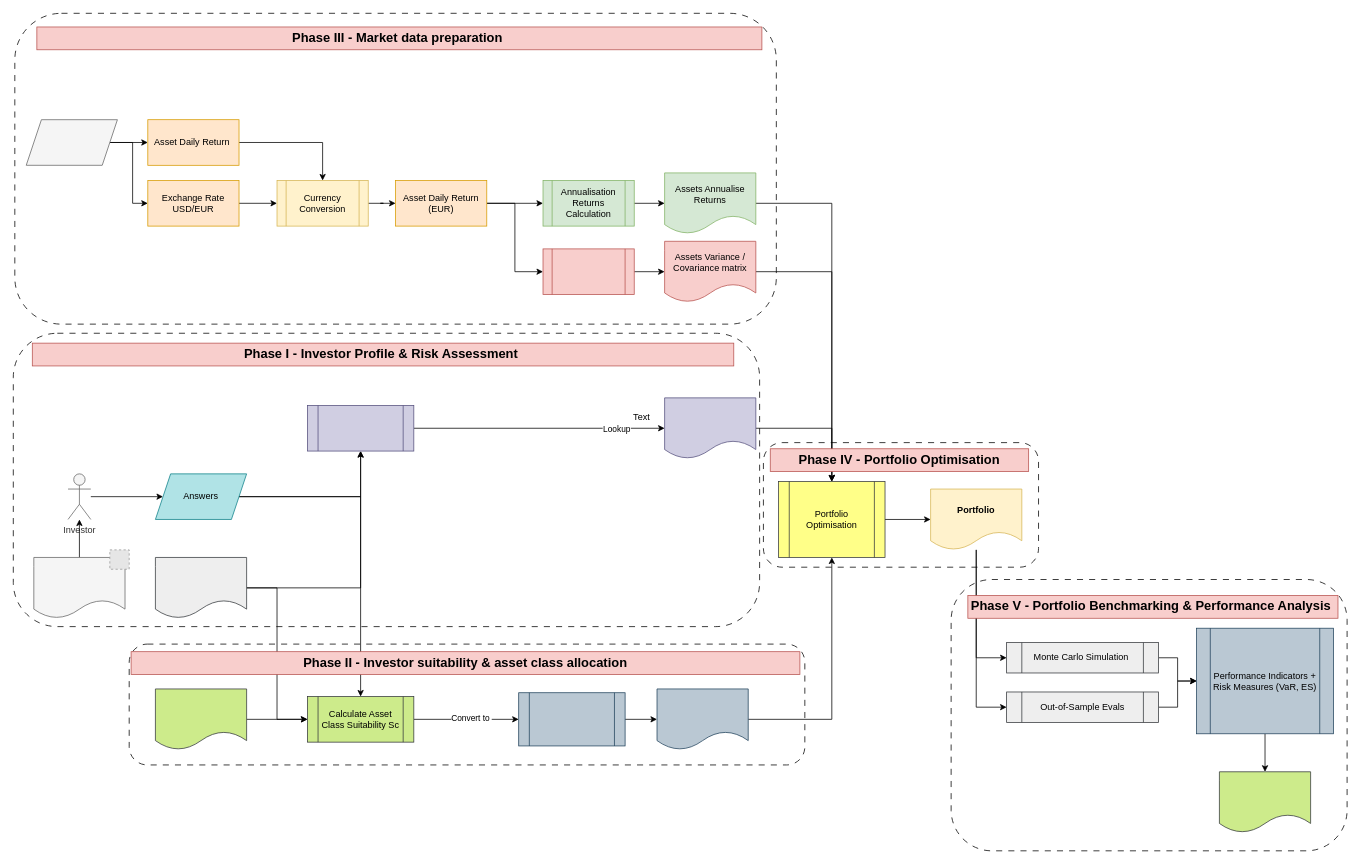
The diagram is 1360 pixels wide and 864 high, and some of its shapes have lost their labels. Grey dashed boxes stand in for pictures. Each missing label, with the box of its shape:
Assets Class Allocation: (656, 688, 748, 750)
Calculate Investor Risk Score: (307, 405, 414, 451)
Convert to Asset Class Weights: (518, 692, 625, 746)
Importance Weight of Questionnaires: (155, 557, 247, 618)
Investor Risk Aversion Coefficient Lookup: (664, 397, 756, 459)
Market Data Downloader: (25, 119, 117, 165)
Questionnaires: (33, 557, 125, 618)
Report: (1219, 771, 1311, 833)
Suitability Lookup Table: (155, 688, 247, 750)
Variance / Covariance matrix Calculation: (542, 248, 634, 294)
